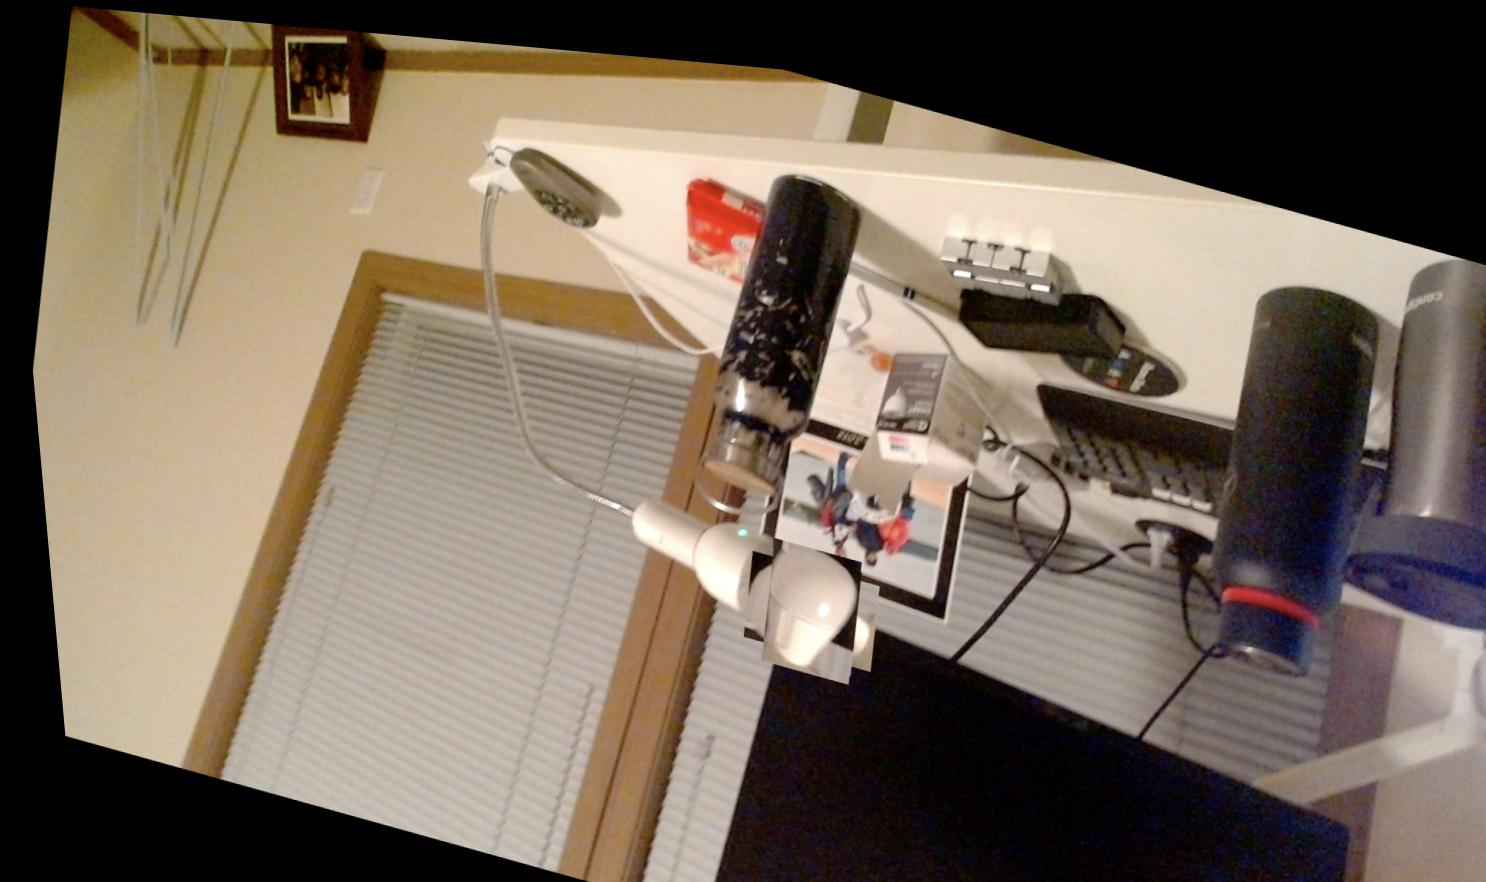Fan: (734, 529, 869, 665)
